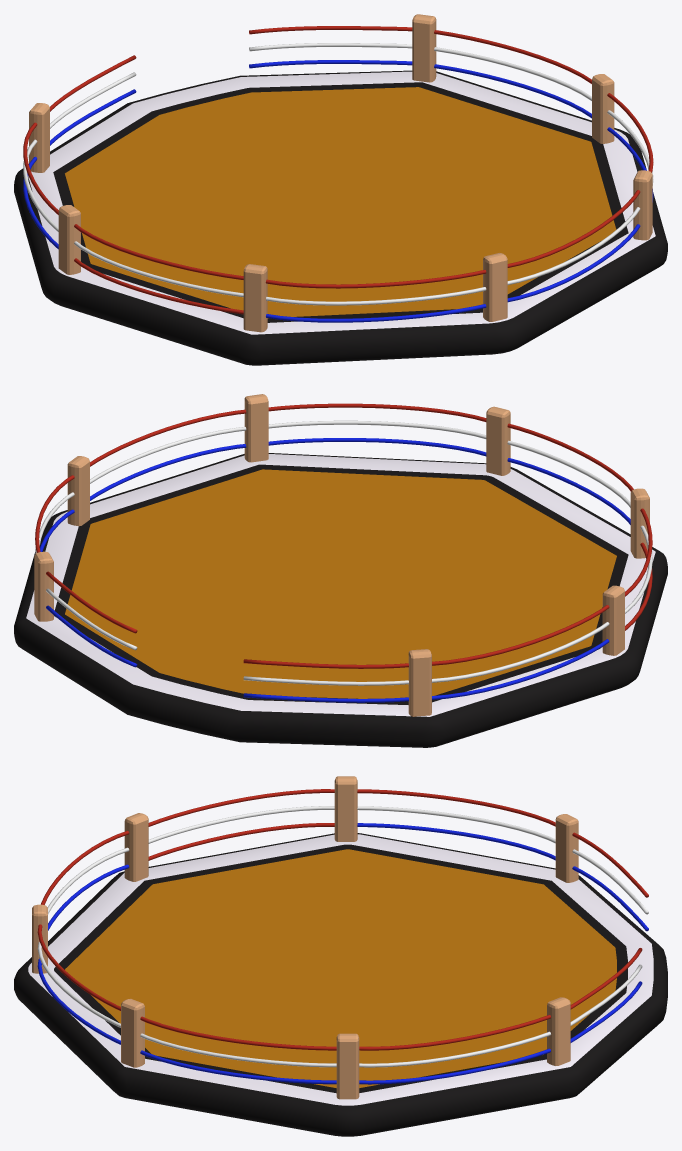
The model's file is Arena.fbx.
The picture shows the model from 3 angles, top to bottom: view 1: azimuth 30°, elevation 25°; view 2: azimuth 150°, elevation 25°; view 3: azimuth 270°, elevation 25°; orthographic projection.
Visible parts, largest first — view 1: Plane.001, BezierCurve.005, BezierCurve.004, BezierCurve.008, BezierCurve.001, BezierCurve.006, Cube.014, Cube.015, Cube.009, Cube.011, Cube.012, BezierCurve.002 (+4 smaller); view 2: Plane.001, BezierCurve.006, BezierCurve.003, BezierCurve.002, BezierCurve.007, BezierCurve.005, Cube.013, Cube.009, Cube.016, BezierCurve.001, Cube.011, Cube.012 (+4 smaller); view 3: Plane.001, BezierCurve.003, BezierCurve.007, BezierCurve.008, BezierCurve.004, BezierCurve.006, Cube.012, Cube.014, Cube.011, Cube.015, Cube.013, Cube.016 (+4 smaller).
Part boxes in pixels (left/top/right/bottom): Plane.001: left=14, top=70, right=667, bottom=365; BezierCurve.005: left=265, top=269, right=486, bottom=322; BezierCurve.004: left=74, top=224, right=243, bottom=314; BezierCurve.008: left=434, top=30, right=591, bottom=118; BezierCurve.001: left=249, top=26, right=412, bottom=68; BezierCurve.006: left=507, top=190, right=640, bottom=302; Cube.014: left=243, top=264, right=267, bottom=332; Cube.015: left=412, top=14, right=436, bottom=82; Cube.009: left=483, top=253, right=507, bottom=321; Cube.011: left=58, top=205, right=80, bottom=274; Cube.012: left=592, top=74, right=614, bottom=143; BezierCurve.002: left=50, top=55, right=136, bottom=145; Plane.001: left=14, top=453, right=667, bottom=747; BezierCurve.006: left=268, top=403, right=486, bottom=456; BezierCurve.003: left=432, top=605, right=609, bottom=699; BezierCurve.002: left=243, top=659, right=408, bottom=702; BezierCurve.007: left=90, top=409, right=246, bottom=500; BezierCurve.005: left=507, top=423, right=633, bottom=524; Cube.013: left=244, top=394, right=268, bottom=462; Cube.009: left=486, top=406, right=510, bottom=475; Cube.016: left=408, top=649, right=431, bottom=716; BezierCurve.001: left=46, top=571, right=137, bottom=667; Cube.011: left=602, top=585, right=624, bottom=655; Cube.012: left=67, top=456, right=89, bottom=526; Plane.001: left=14, top=833, right=667, bottom=1136; BezierCurve.003: left=357, top=789, right=555, bottom=860; BezierCurve.007: left=140, top=1016, right=336, bottom=1084; BezierCurve.008: left=359, top=1014, right=550, bottom=1084; BezierCurve.004: left=148, top=789, right=334, bottom=860; BezierCurve.006: left=37, top=924, right=120, bottom=1044; Cube.012: left=336, top=1033, right=359, bottom=1099; Cube.014: left=124, top=813, right=148, bottom=881; Cube.011: left=334, top=776, right=357, bottom=841; Cube.015: left=547, top=997, right=570, bottom=1065; Cube.013: left=121, top=998, right=144, bottom=1067; Cube.016: left=555, top=814, right=578, bottom=882.
Bounding box in the file's own units: 17142 × 2547 × 16673.
